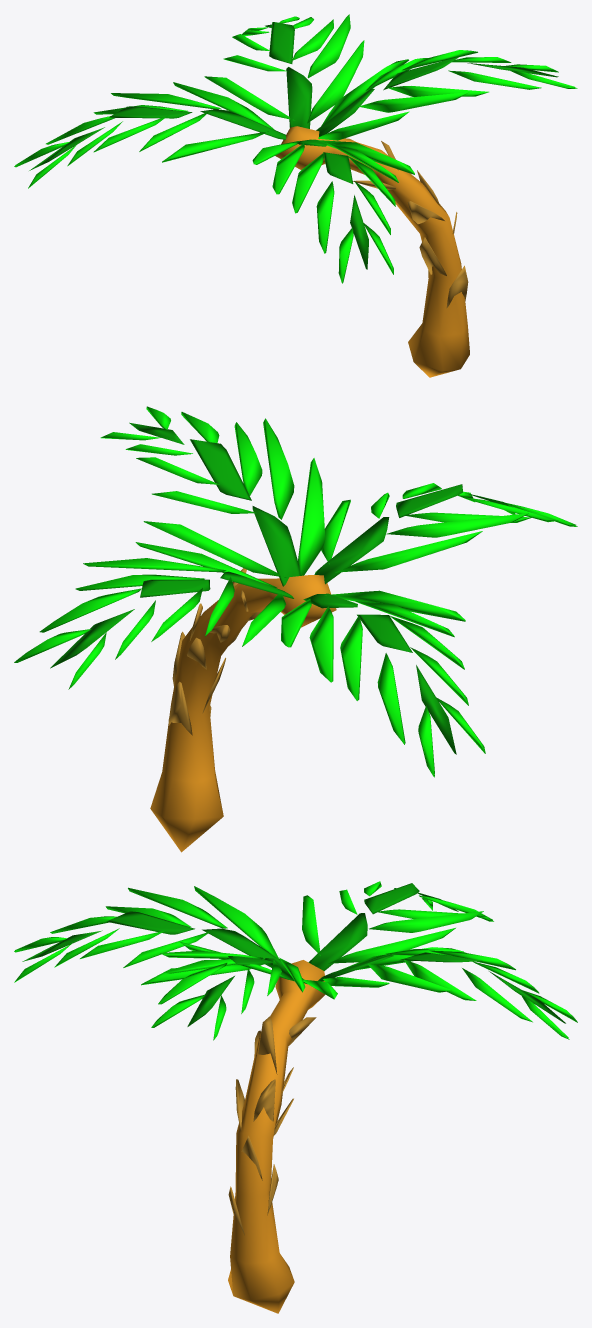
The model's file is palm2.obj.
3 views of the same model, one above another, from view 1: azimuth 30°, elevation 25°; view 2: azimuth 150°, elevation 25°; view 3: azimuth 270°, elevation 25° (orthographic). The views are drawn at different scales.
Visible parts, largest first — view 1: s.0357, s.0374, s.0382, s.0422, s.0383, s.0373, s.0411, s.0380, s.0406, s.0420, s.0398, s.0425 (+15 smaller); view 2: s.0357, s.0425, s.0428, s.0423, s.0422, s.0400, s.0420, s.0397, s.0394, s.0406, s.0410, s.0408 (+23 smaller); view 3: s.0357, s.0414, s.0397, s.0411, s.0408, s.0395, s.0394, s.0400, s.0383, s.0409, s.0406, s.0384 (+7 smaller).
Part boxes in pixels (x1,y1,x2,y2): s.0357: (275, 126, 469, 377); s.0374: (286, 67, 312, 128); s.0382: (307, 40, 364, 123); s.0422: (359, 92, 469, 112); s.0383: (307, 14, 350, 78); s.0373: (269, 22, 294, 63); s.0411: (173, 82, 274, 129); s.0380: (204, 76, 294, 120); s.0406: (162, 131, 268, 162); s.0420: (319, 59, 408, 129); s.0398: (316, 181, 334, 253); s.0425: (318, 111, 409, 140); s.0357: (150, 575, 336, 852); s.0425: (298, 458, 325, 575); s.0428: (252, 506, 299, 586); s.0423: (190, 439, 251, 500); s.0422: (263, 418, 294, 519); s.0400: (314, 517, 389, 584); s.0420: (143, 521, 286, 577); s.0397: (335, 531, 482, 572); s.0394: (386, 513, 528, 537); s.0406: (325, 590, 465, 621); s.0410: (340, 616, 362, 700); s.0408: (309, 606, 333, 682); s.0357: (228, 960, 325, 1313); s.0414: (308, 913, 367, 970); s.0397: (194, 886, 278, 959); s.0411: (328, 928, 455, 963); s.0408: (369, 911, 483, 932); s.0395: (106, 911, 194, 934); s.0394: (128, 887, 227, 928); s.0400: (202, 928, 280, 967); s.0383: (367, 964, 452, 992); s.0409: (364, 883, 419, 914); s.0406: (302, 895, 320, 955); s.0384: (403, 959, 476, 1000).
Bounding box in the file's own units: 26.9 × 19.96 × 28.72.
